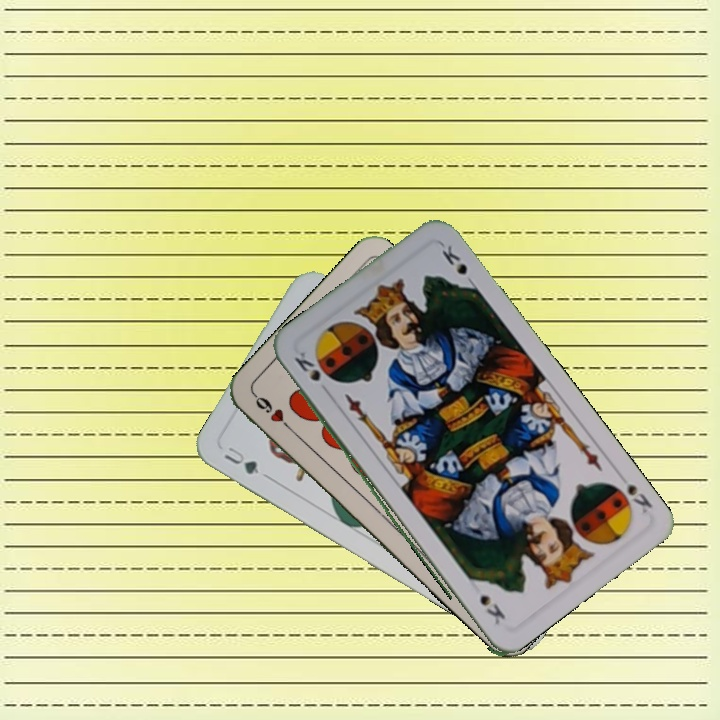GU: (220, 442, 271, 481)
H9: (250, 390, 297, 436)
SK: (615, 468, 655, 516), (290, 347, 324, 384)
